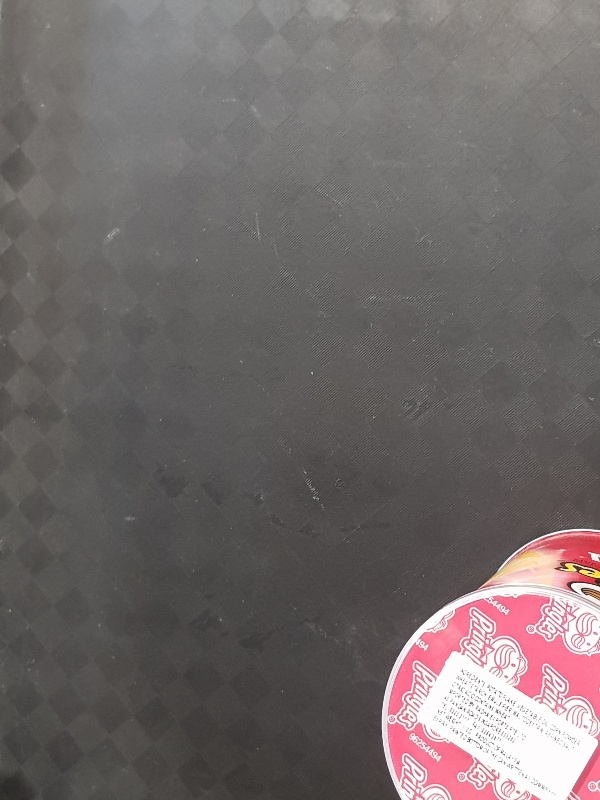Pringles Original: (382, 527, 599, 800)
